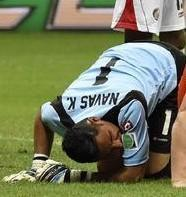Fall-Detected: (3, 39, 186, 185)
